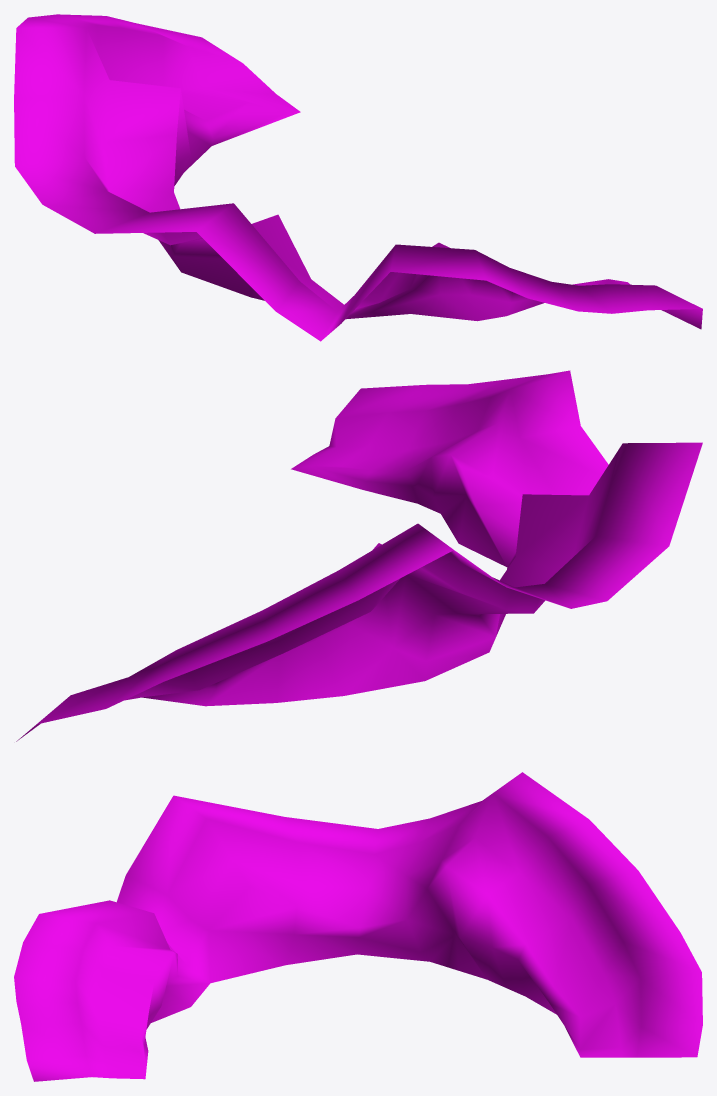
The model's file is BIGrampV2_mesh.fbx.
The picture shows the model from 3 angles, top to bottom: view 1: azimuth 30°, elevation 25°; view 2: azimuth 150°, elevation 25°; view 3: azimuth 270°, elevation 25°; orthographic projection. The views are drawn at different scales.
Parts seen in each view (by area): view 1: BIGramp_mesh; view 2: BIGramp_mesh; view 3: BIGramp_mesh.
Boxes of the visible parts, bbox=[...] form: BIGramp_mesh: bbox=[14, 14, 702, 341]; BIGramp_mesh: bbox=[16, 370, 702, 741]; BIGramp_mesh: bbox=[14, 772, 702, 1081].
Size of the model in its own units: 10138 by 3986 by 15974.
